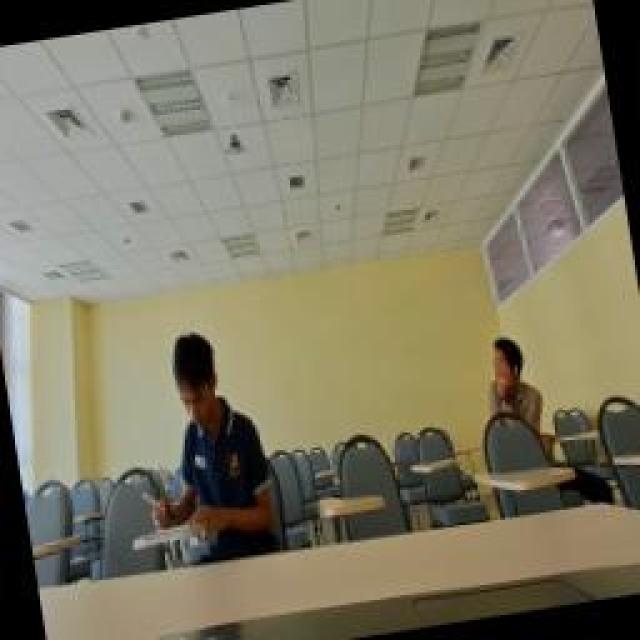study: (115, 320, 280, 570)
